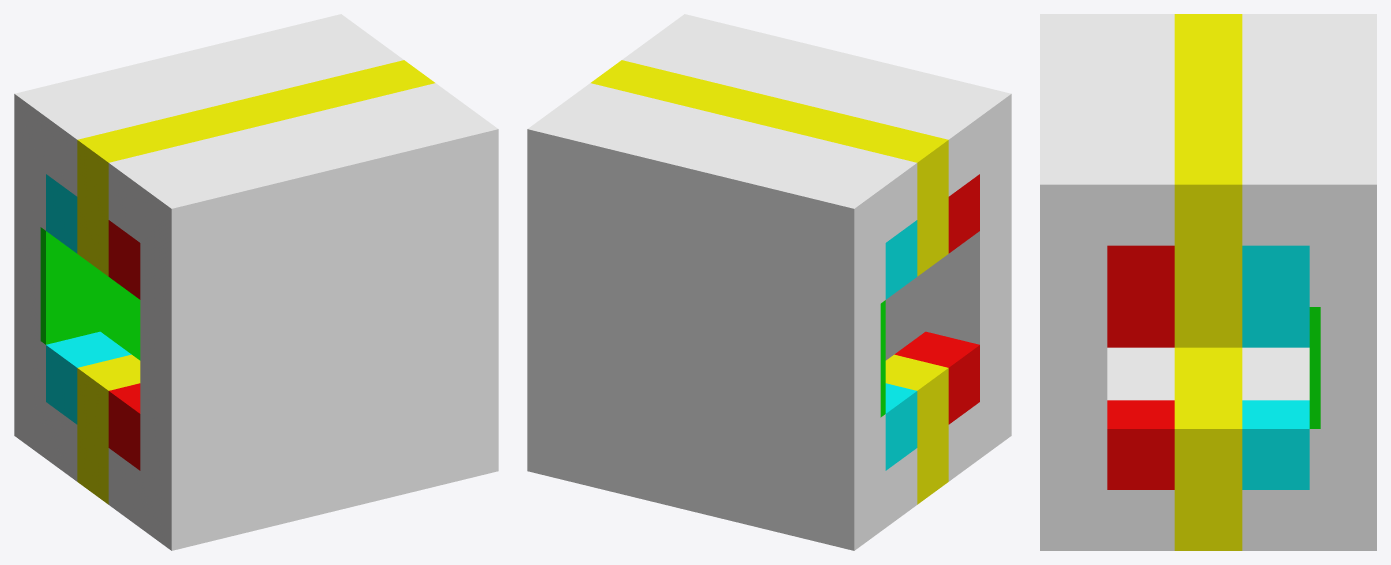
File: tempEndingRoom.obj
3 views of the same model, side by side, from view 1: azimuth 30°, elevation 25°; view 2: azimuth 150°, elevation 25°; view 3: azimuth 270°, elevation 25° (orthographic). The views are drawn at different scales.
Size of the model in its own units: 36 by 36 by 30.
1 material, 1 textured.
